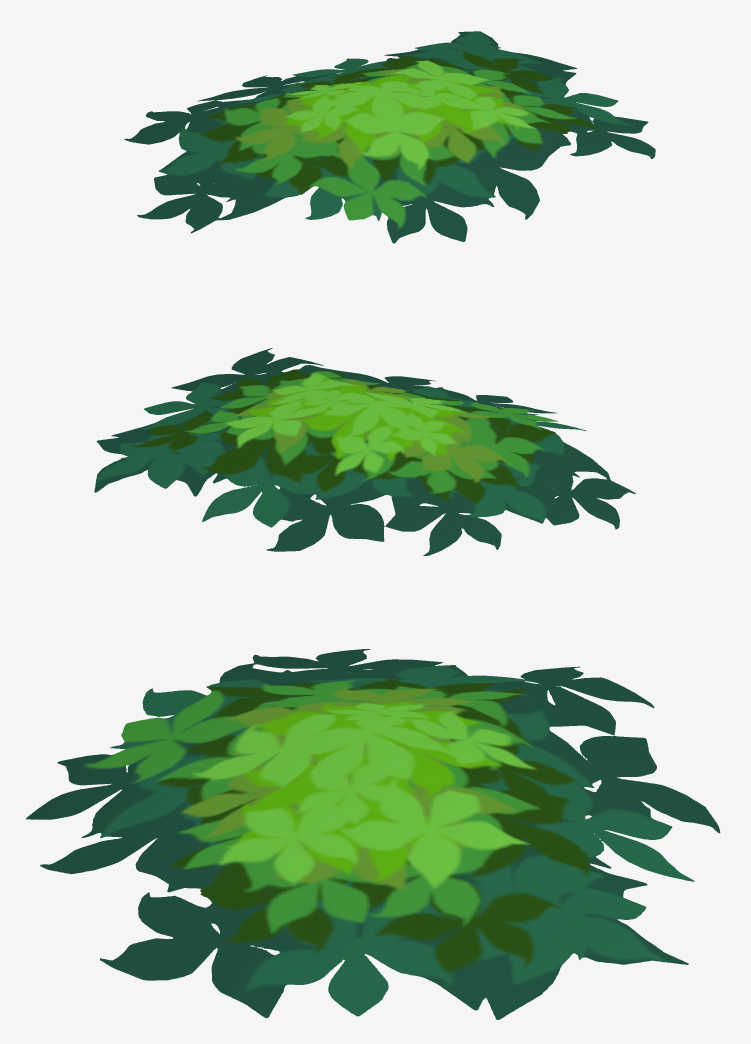
File: tree_plants_002.fbx
The picture shows the model from 3 angles, top to bottom: view 1: azimuth 30°, elevation 25°; view 2: azimuth 150°, elevation 25°; view 3: azimuth 270°, elevation 25°; orthographic projection. The views are drawn at different scales.
Parts seen in each view (by area): view 1: tree_plants_002; view 2: tree_plants_002; view 3: tree_plants_002.
Boxes of the visible parts, x1=… form: tree_plants_002: x1=124, y1=31, x2=655, y2=243; tree_plants_002: x1=94, y1=348, x2=635, y2=555; tree_plants_002: x1=26, y1=649, x2=720, y2=1019.
Bounding box in the file's own units: 6.27 × 0.8338 × 4.97.
